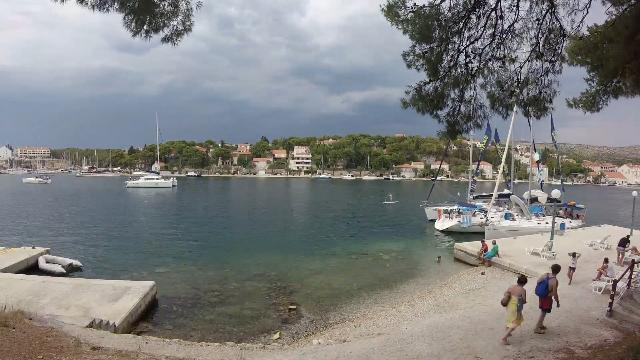Freighter: (74, 162, 128, 178)
Sailboat: (121, 170, 182, 192), (21, 172, 55, 186)
